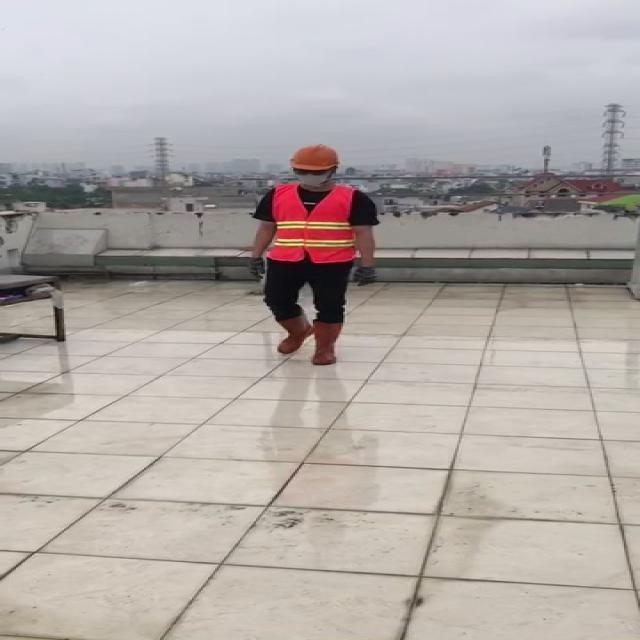gloves: (351, 267, 377, 287), (249, 257, 266, 283)
goggles: (294, 168, 332, 176)
helmet: (286, 142, 347, 173)
safety_vest: (264, 185, 355, 262)
